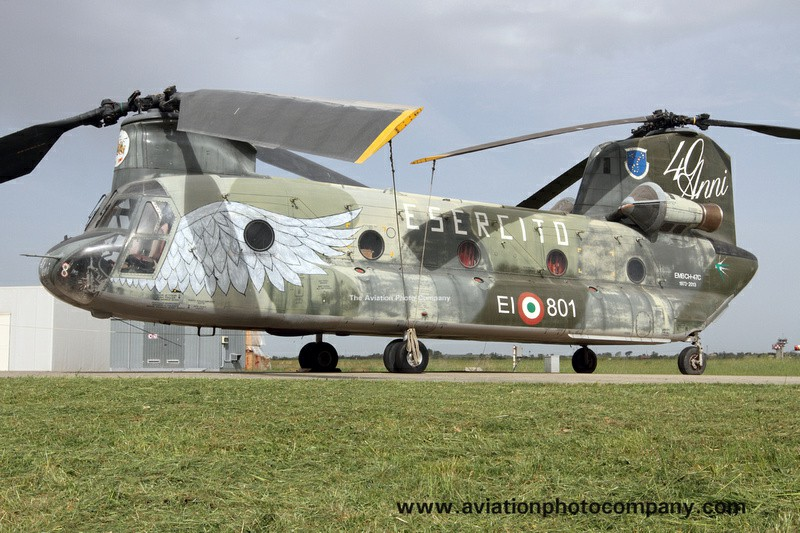chinook: (10, 89, 797, 376)
